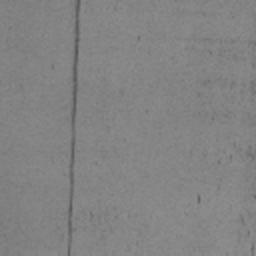Scratches: (67, 0, 81, 256)
